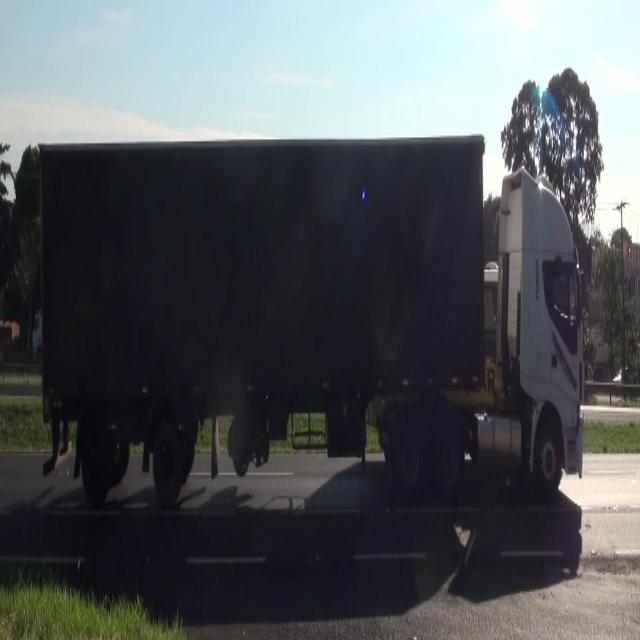-axle: (389, 411, 426, 504), (80, 412, 114, 502), (432, 405, 463, 494), (153, 420, 185, 501), (534, 409, 563, 497)
